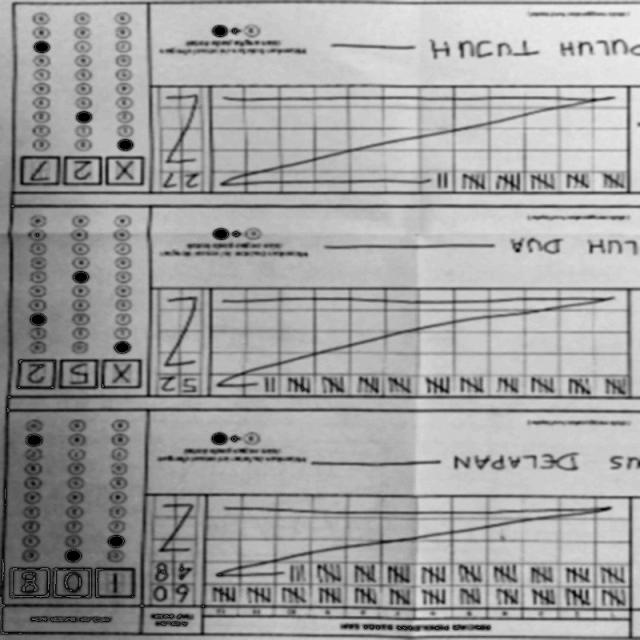Suara: (26, 152, 152, 191), (8, 568, 136, 606), (16, 357, 144, 394)
